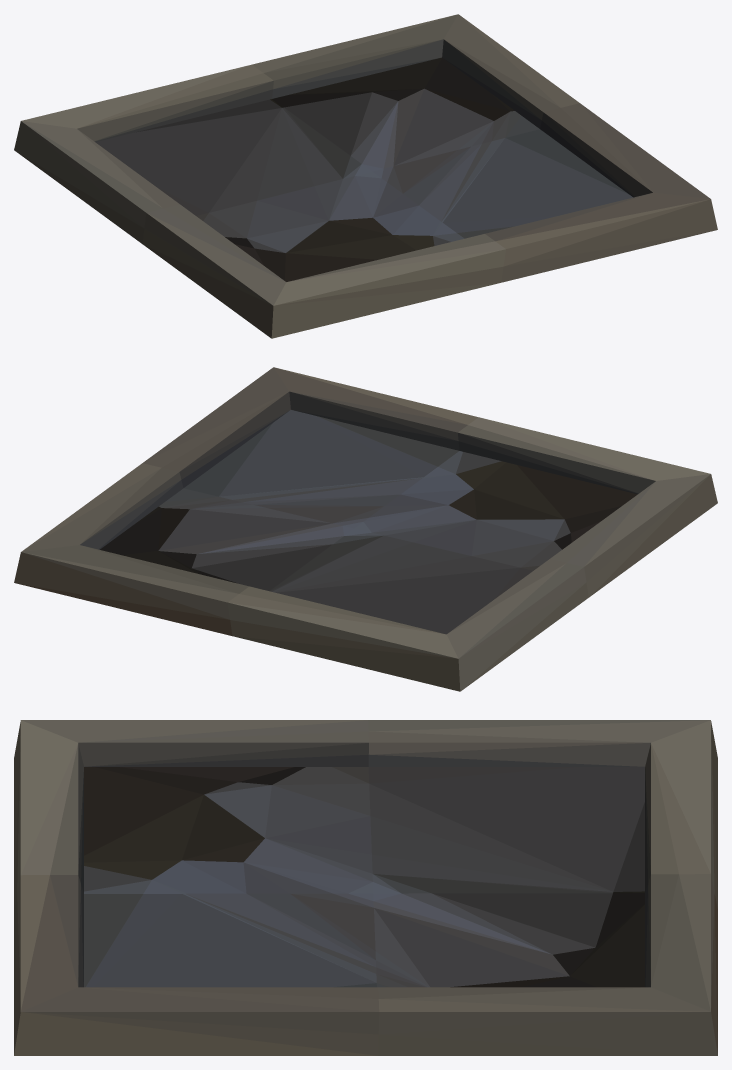
File: floor_bordered_4m_3.fbx
3 views of the same model, one above another, from view 1: azimuth 30°, elevation 25°; view 2: azimuth 150°, elevation 25°; view 3: azimuth 270°, elevation 25° (orthographic). The views are drawn at different scales.
Parts seen in each view (by area): view 1: floor_bordered_4m_3; view 2: floor_bordered_4m_3; view 3: floor_bordered_4m_3.
Part boxes in pixels (bbox=[...]): floor_bordered_4m_3: bbox=[14, 14, 717, 338]; floor_bordered_4m_3: bbox=[14, 367, 717, 691]; floor_bordered_4m_3: bbox=[14, 720, 717, 1055].
Size of the model in its own units: 4 by 0.2573 by 4.
